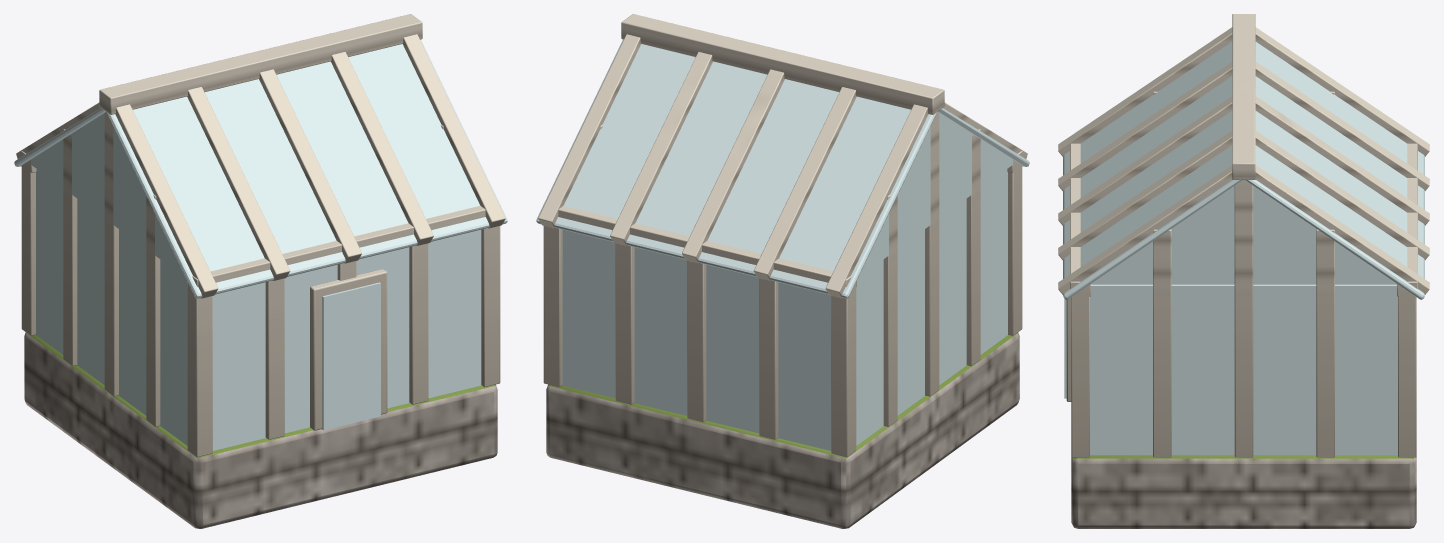
Rendered from unlock-greenhouse-thu.glb.
3 renders of one model, left to right at view 1: azimuth 30°, elevation 25°; view 2: azimuth 150°, elevation 25°; view 3: azimuth 270°, elevation 25°, orthographic.
Visible parts, largest first — view 1: unlock-greenhouse-static; view 2: unlock-greenhouse-static; view 3: unlock-greenhouse-static.
Part boxes in pixels (box(x1,y1,x2,y2)): unlock-greenhouse-static: box(14, 14, 507, 528); unlock-greenhouse-static: box(536, 14, 1029, 528); unlock-greenhouse-static: box(1058, 14, 1429, 528).
Size of the model in its own units: 0.76 by 0.875 by 0.7963.
14 materials, 8 textured.
